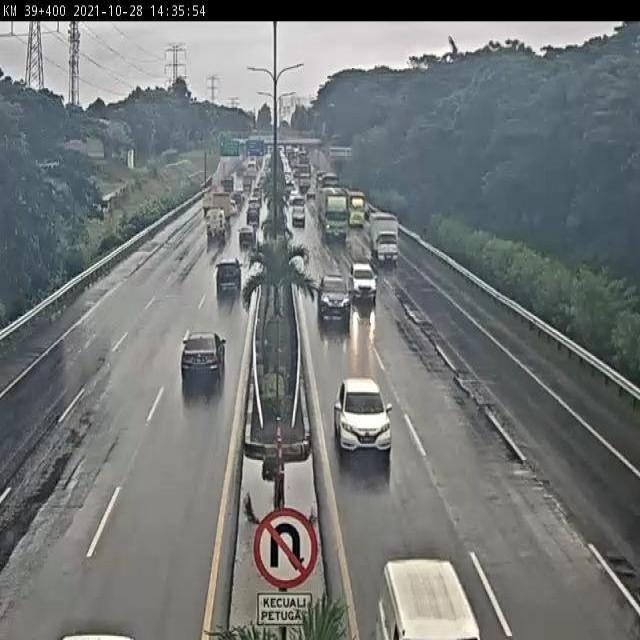big truck: (315, 192, 350, 233)
car: (376, 558, 483, 638), (330, 378, 397, 453), (178, 325, 228, 396), (319, 276, 348, 336), (348, 260, 376, 304), (214, 259, 241, 297), (236, 224, 257, 249), (291, 201, 311, 227), (245, 213, 261, 231), (247, 193, 260, 215)
small truck: (366, 211, 408, 269), (205, 212, 232, 245), (213, 192, 233, 228), (347, 190, 364, 222)
